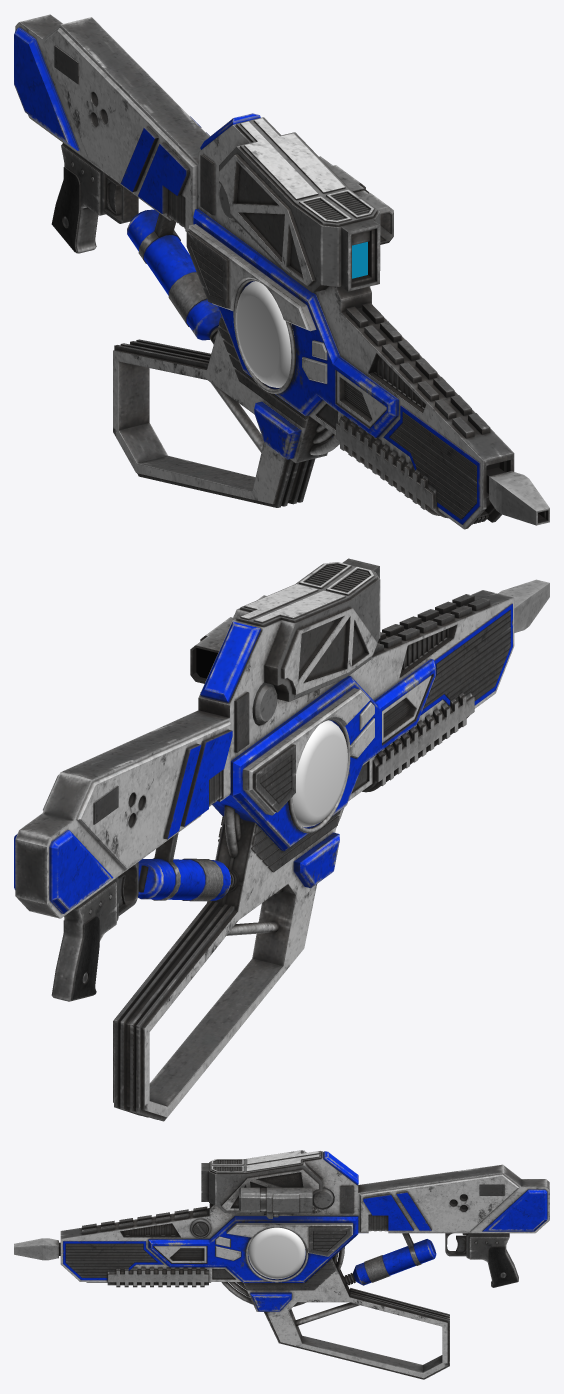
The model's file is sarakawa.glb.
3 renders of one model, top to bottom at view 1: azimuth 30°, elevation 25°; view 2: azimuth 150°, elevation 25°; view 3: azimuth 270°, elevation 25°, orthographic. The views are drawn at different scales.
Visible parts, largest first — view 1: SarakawaMkII, glassUseDisplacementGlassShaderOnThis; view 2: SarakawaMkII, glassUseDisplacementGlassShaderOnThis; view 3: SarakawaMkII, glassUseDisplacementGlassShaderOnThis.
Part boxes in pixels (box(x1,y1,x2,y2)): SarakawaMkII: box(14, 14, 549, 529); glassUseDisplacementGlassShaderOnThis: box(236, 281, 291, 387); SarakawaMkII: box(14, 558, 549, 1121); glassUseDisplacementGlassShaderOnThis: box(292, 720, 347, 827); SarakawaMkII: box(14, 1150, 549, 1379); glassUseDisplacementGlassShaderOnThis: box(248, 1227, 305, 1279).
Size of the model in its own units: 3.63 by 14.04 by 30.6.
Materials: 5 (1 with a texture image).
